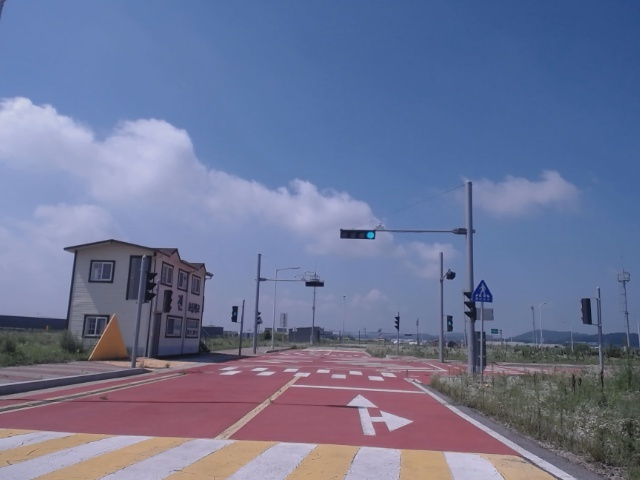straight_green_4: (340, 231, 376, 240)
